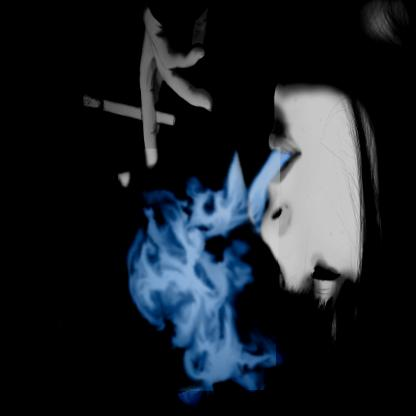smoke: (115, 148, 281, 393)
